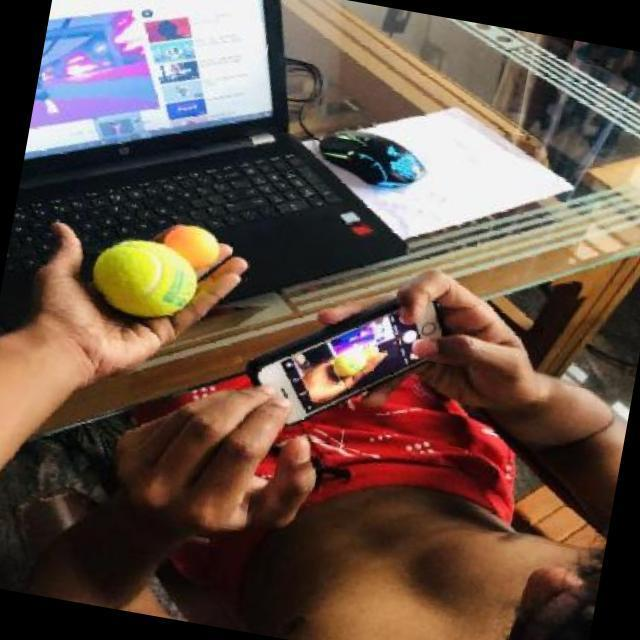-: (29, 207, 276, 358)
